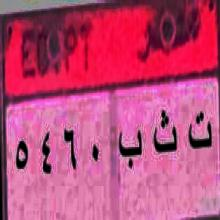0: (89, 138, 103, 171)
4: (40, 128, 54, 181)
5: (14, 132, 30, 182)
6: (62, 124, 78, 179)
baa: (117, 125, 143, 178)
taa: (185, 112, 215, 158)
thaa: (151, 109, 178, 163)
